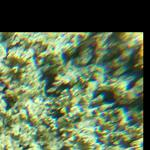alive: (2, 35, 139, 147)
